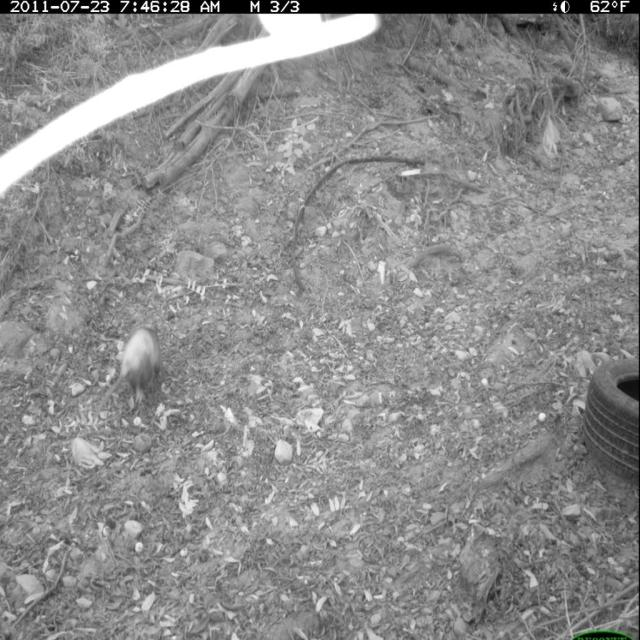opossum: (90, 322, 166, 428)
